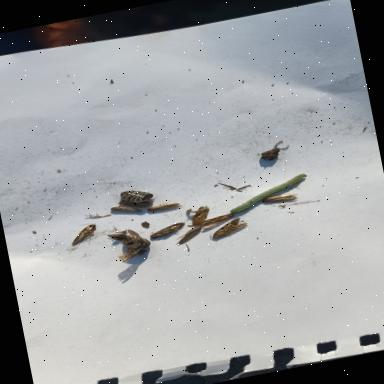pbw: (206, 214, 254, 241), (64, 219, 106, 249), (194, 208, 237, 234), (147, 218, 190, 242), (144, 196, 185, 216), (172, 224, 204, 246), (109, 200, 144, 220), (187, 202, 216, 226), (260, 191, 300, 207)
